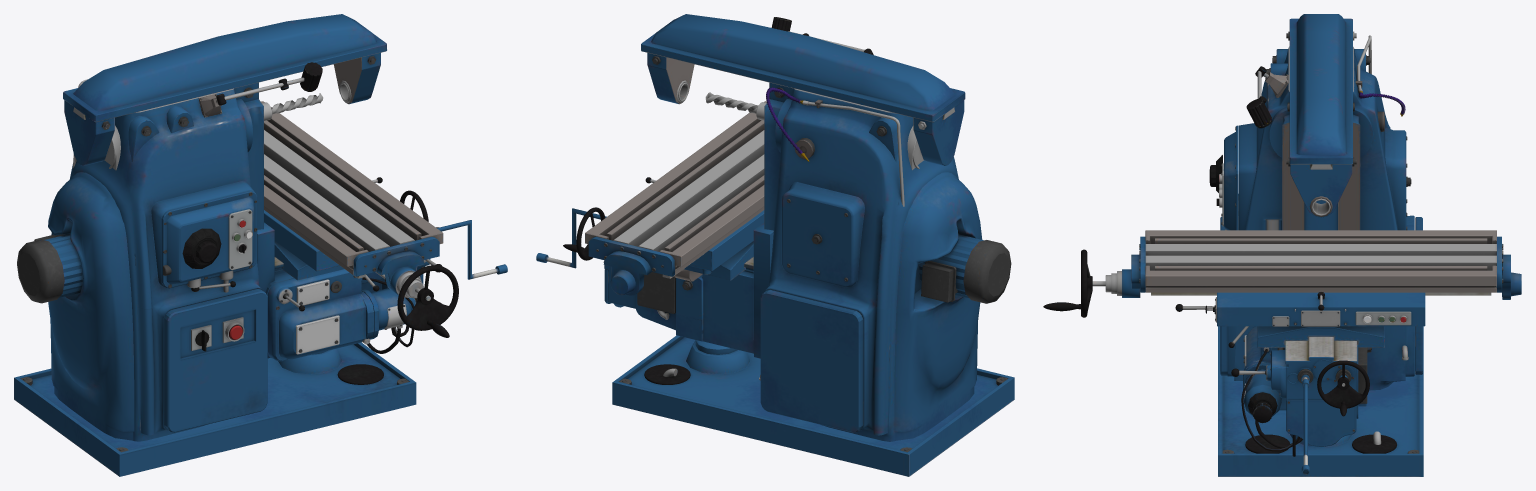
Rendered from xichuang.glb.
3 views of the same model, side by side, from view 1: azimuth 30°, elevation 25°; view 2: azimuth 150°, elevation 25°; view 3: azimuth 270°, elevation 25° (orthographic). The views are drawn at different scales.
Parts seen in each view (by area): view 1: JXJC109_07, JXJC109_14, 对象002, JXJC109_06, JXJC109_18, JXJC109_15, JXJC109_01, JXJC109_12, JXJC109_13, JXJC109_16; view 2: JXJC109_07, JXJC109_14, 对象002, JXJC109_06, JXJC109_18, JXJC109_15, JXJC109_12, JXJC109_16, JXJC109_17, JXJC109_13; view 3: JXJC109_06, JXJC109_07, JXJC109_14, JXJC109_18, JXJC109_15, 对象002, JXJC109_12, JXJC109_17, JXJC109_01, JXJC109_13.
Boxes of the visible parts, x1,y1,x2,y2 form: JXJC109_07: [17, 62, 322, 441]; JXJC109_14: [14, 342, 416, 476]; 对象002: [63, 14, 386, 165]; JXJC109_06: [261, 101, 443, 300]; JXJC109_18: [257, 222, 442, 361]; JXJC109_15: [264, 177, 386, 291]; JXJC109_01: [397, 265, 458, 337]; JXJC109_12: [333, 52, 380, 104]; JXJC109_13: [437, 220, 507, 279]; JXJC109_16: [262, 93, 323, 120]; JXJC109_07: [759, 17, 1011, 441]; JXJC109_14: [612, 335, 1014, 476]; 对象002: [641, 14, 965, 165]; JXJC109_06: [585, 101, 766, 295]; JXJC109_18: [604, 223, 773, 358]; JXJC109_15: [645, 177, 764, 281]; JXJC109_12: [647, 53, 694, 104]; JXJC109_16: [705, 92, 766, 120]; JXJC109_17: [563, 207, 605, 260]; JXJC109_13: [536, 208, 606, 268]; JXJC109_06: [1092, 230, 1521, 299]; JXJC109_07: [1209, 35, 1422, 390]; JXJC109_14: [1218, 326, 1423, 476]; JXJC109_18: [1231, 326, 1371, 456]; JXJC109_15: [1175, 291, 1425, 347]; 对象002: [1286, 14, 1356, 169]; JXJC109_12: [1286, 157, 1356, 217]; JXJC109_17: [1317, 360, 1369, 416]; JXJC109_01: [1043, 249, 1092, 317]; JXJC109_13: [1301, 377, 1309, 475].
Bounding box in the file's own units: 2.11 × 1.54 × 1.92.
1 material, 1 textured.
